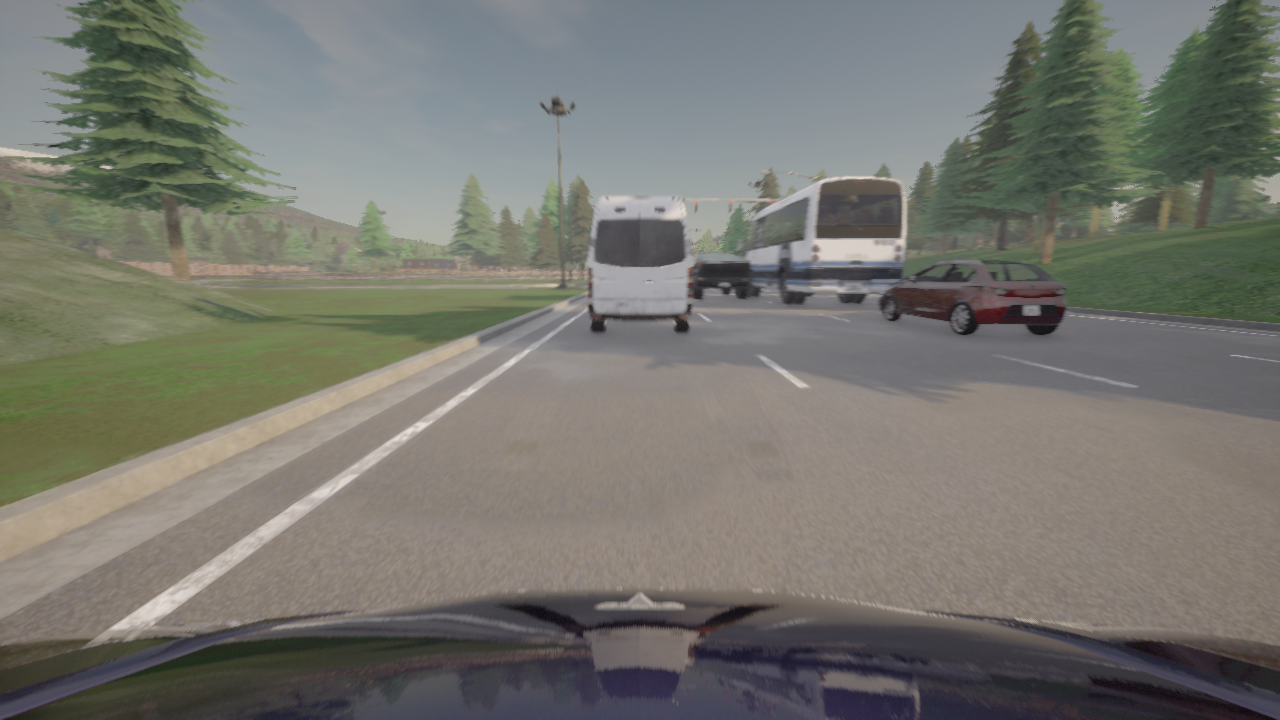cyclist: (0, 588, 1279, 719), (737, 176, 905, 303), (587, 196, 693, 332), (879, 259, 1067, 335), (693, 254, 750, 299)
